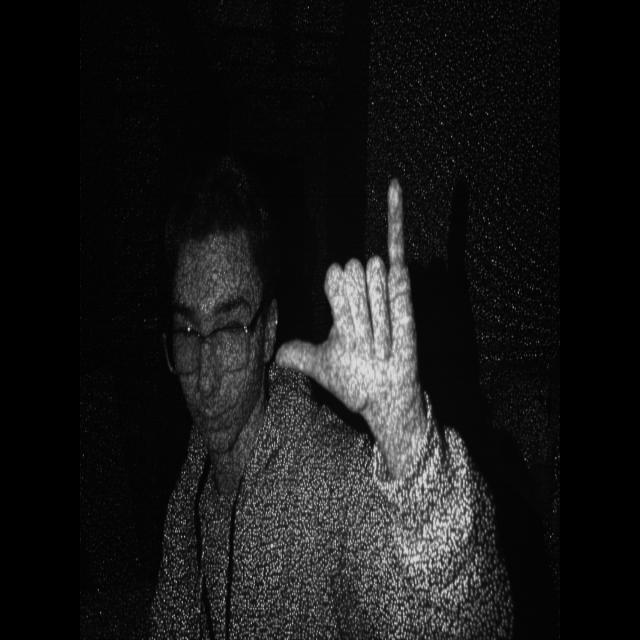Y: (263, 172, 461, 460)
